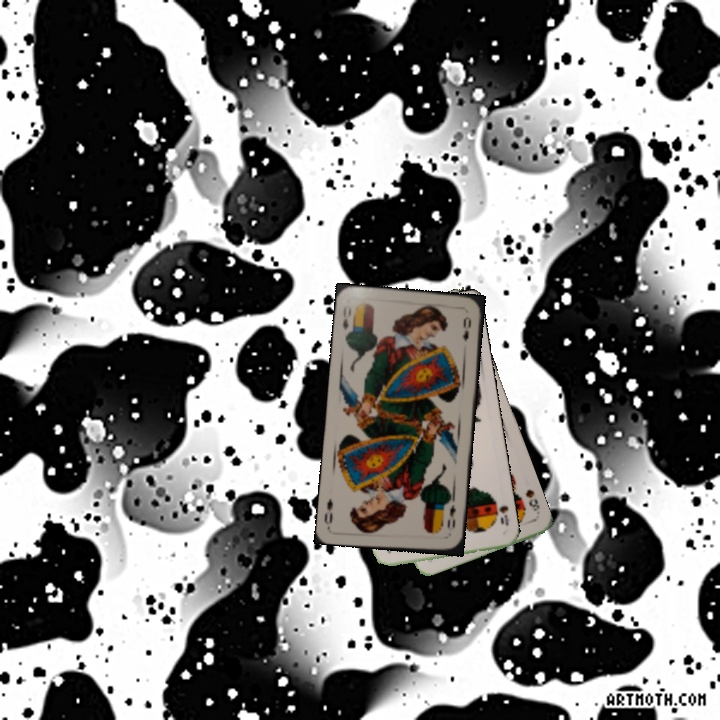EO: (443, 501, 458, 533), (339, 303, 354, 332)
S8: (521, 485, 542, 517)
SO: (495, 502, 511, 528)
